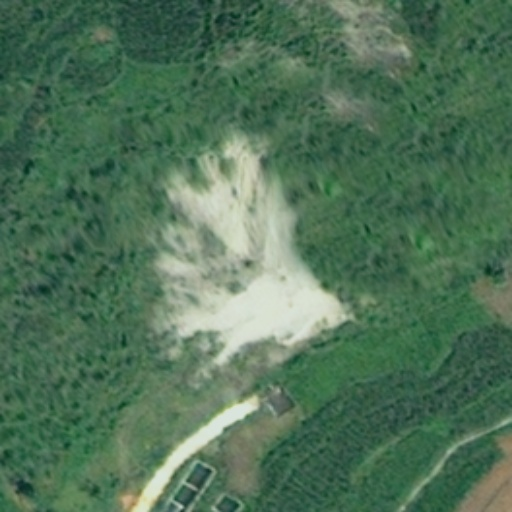landslide: (160, 133, 353, 361)
